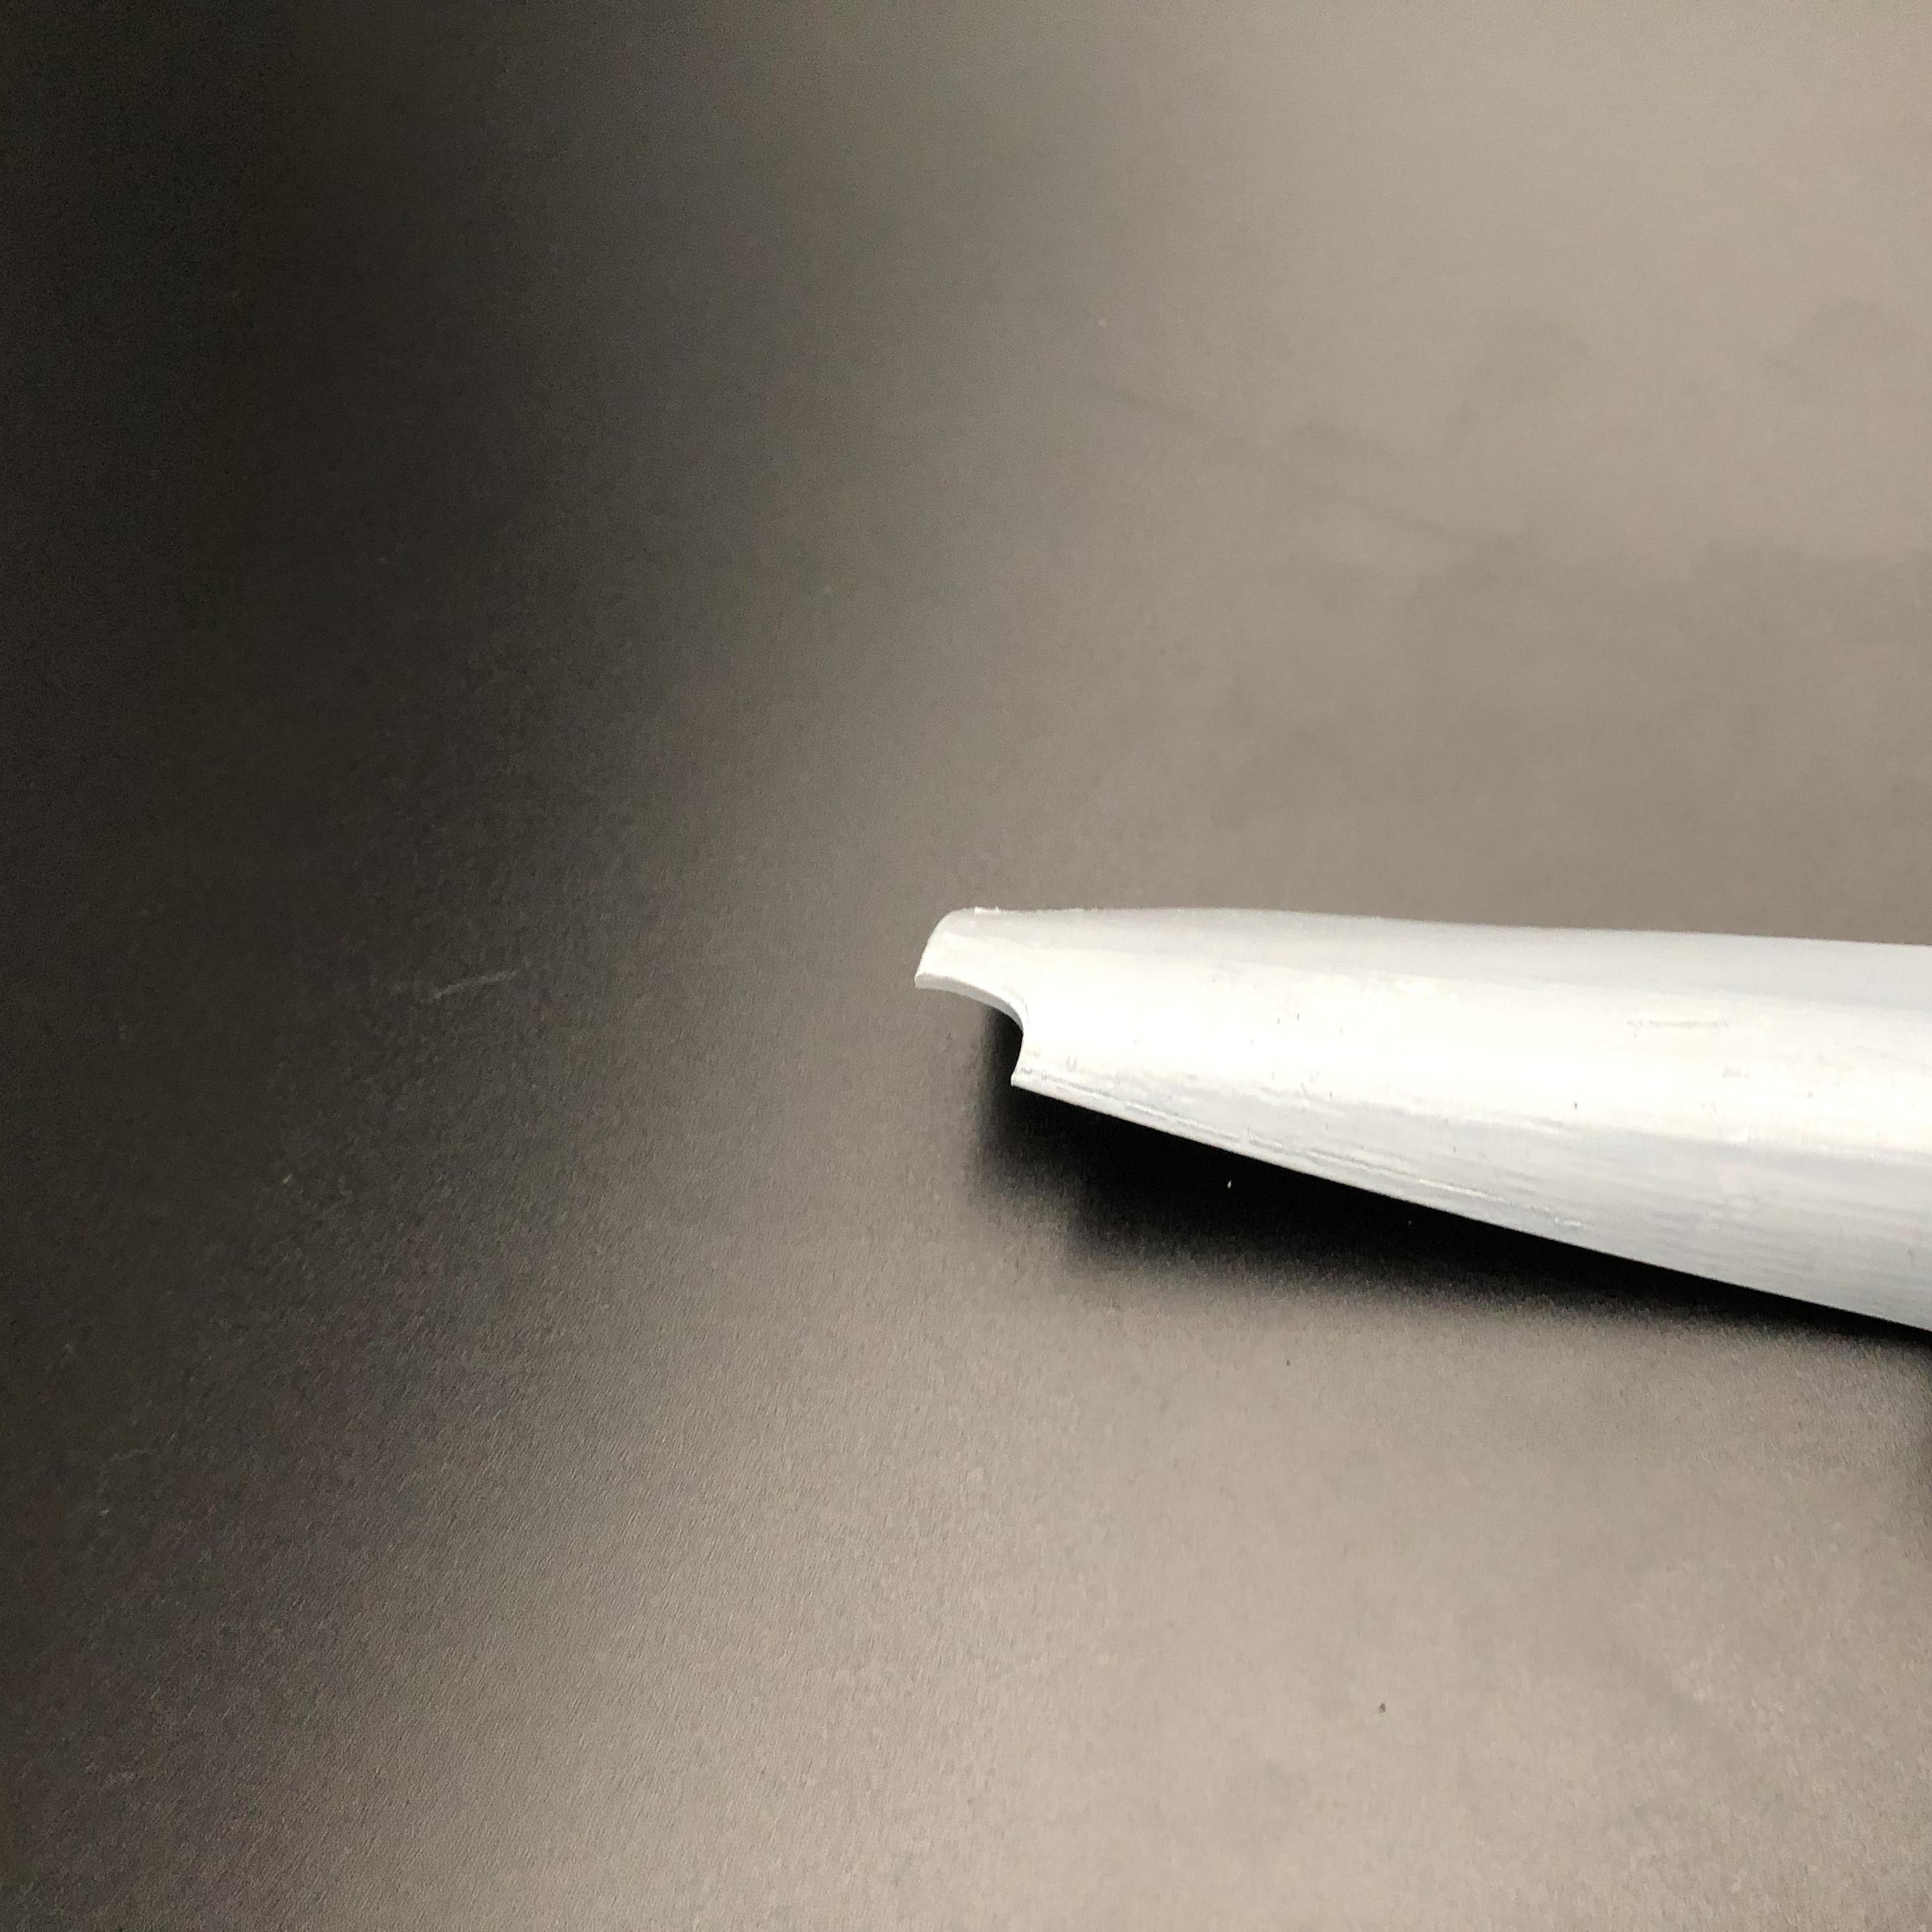fracture: (916, 961, 1051, 1090)
